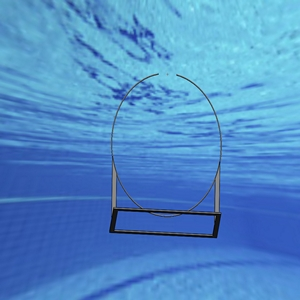circle: (107, 71, 224, 239)
